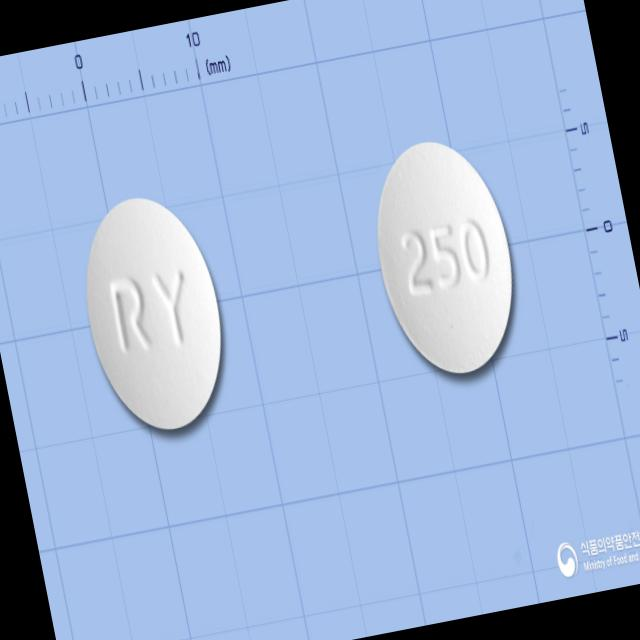Cipurocin: (354, 122, 539, 400), (62, 178, 246, 451)
